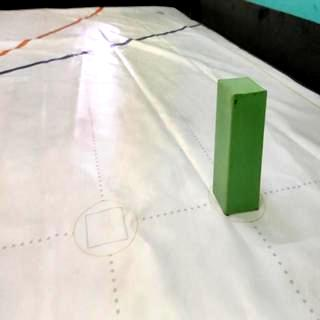greenbox: (212, 74, 269, 218)
